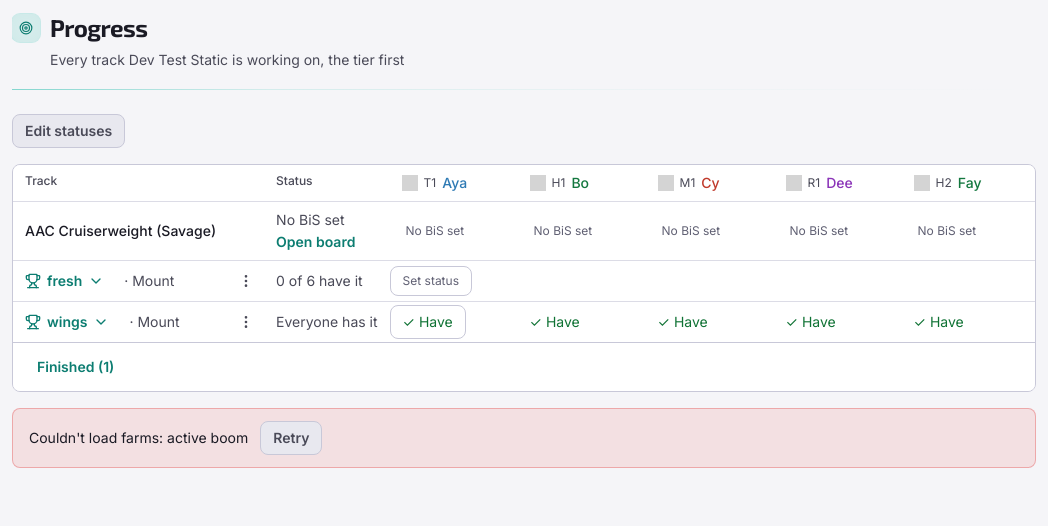
Test: ProgressPage matrix: loading and error (TF5 ruling 3) › does not show an active failure on the Finished section (one store slot, two callers)
Expected: the message with test id "progress-error" shows "active boom", [29,429,248,446]
Click the button "Finished (1)".
click(76, 367)  # box [25,351,126,383]
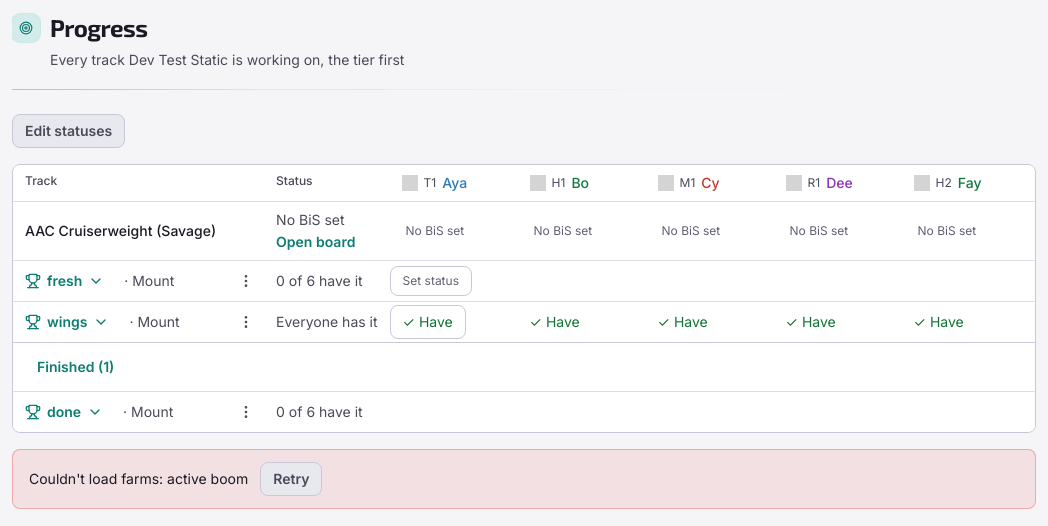
Expected: the button "done" is shown, [13,396,115,428]
